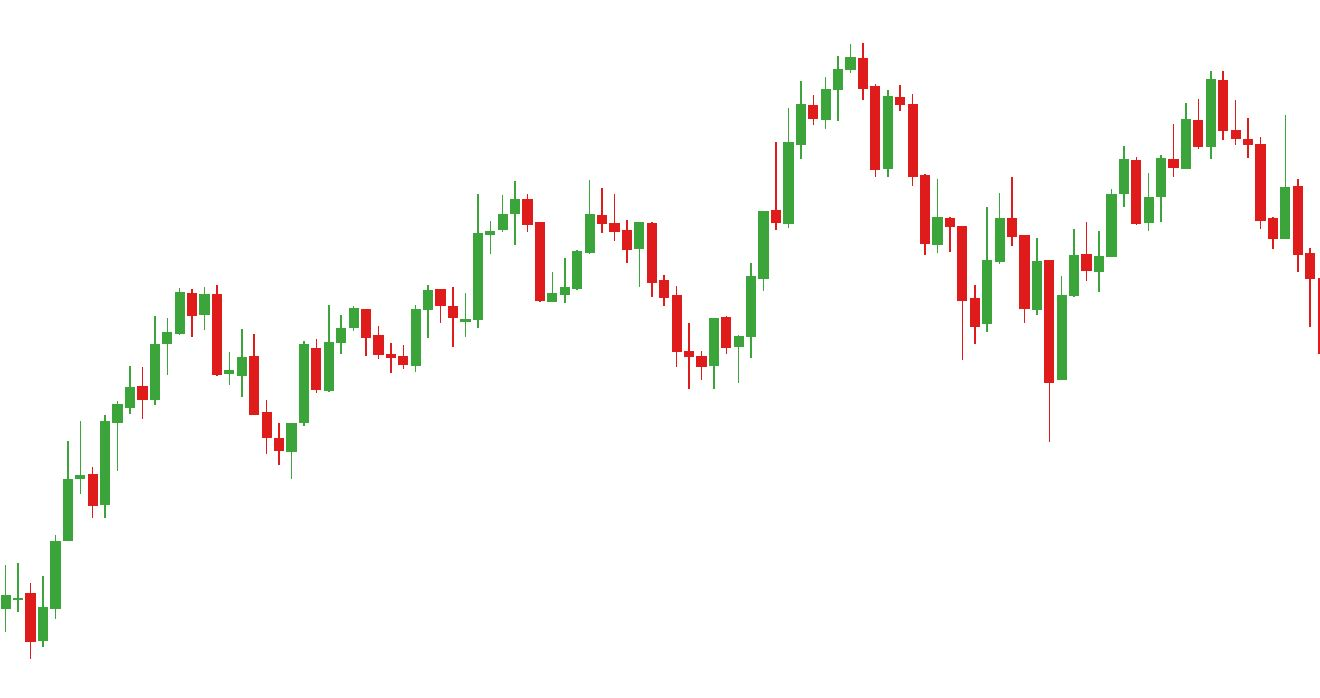buy: (384, 251, 721, 393), (955, 240, 1067, 440)
